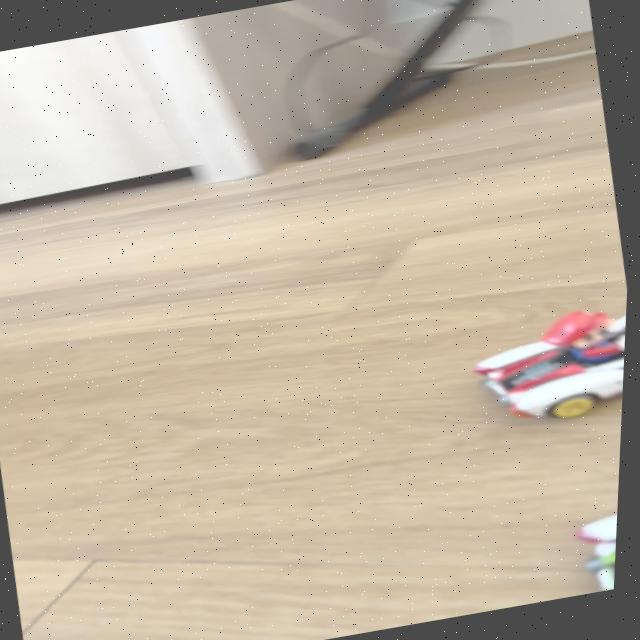mario: (448, 294, 630, 439)
yoshi: (568, 505, 622, 594)
